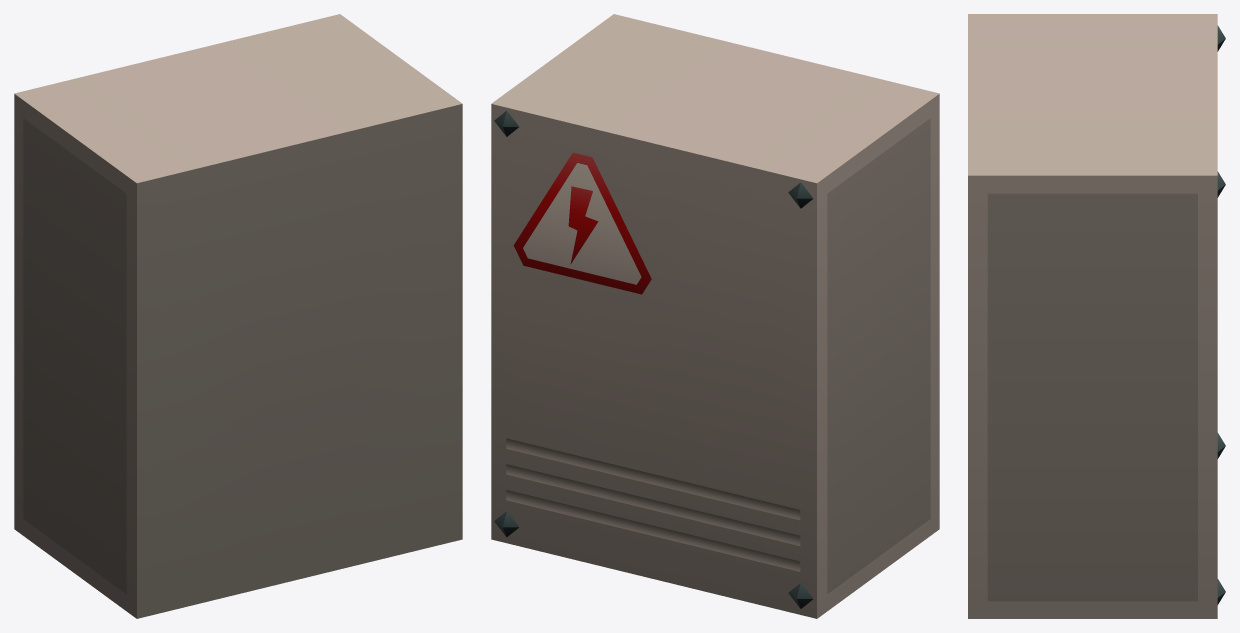
Rendered from Power_Box_1C.fbx.
The picture shows the model from 3 angles, left to right: view 1: azimuth 30°, elevation 25°; view 2: azimuth 150°, elevation 25°; view 3: azimuth 270°, elevation 25°; orthographic projection.
Parts seen in each view (by area): view 1: Power_Box_1C; view 2: Power_Box_1C; view 3: Power_Box_1C.
Part boxes in pixels (x1,y1,x2,y2): Power_Box_1C: [14, 14, 462, 618]; Power_Box_1C: [491, 14, 939, 618]; Power_Box_1C: [968, 14, 1225, 618].
Size of the model in its own units: 1.84 by 2.35 by 1.24.
